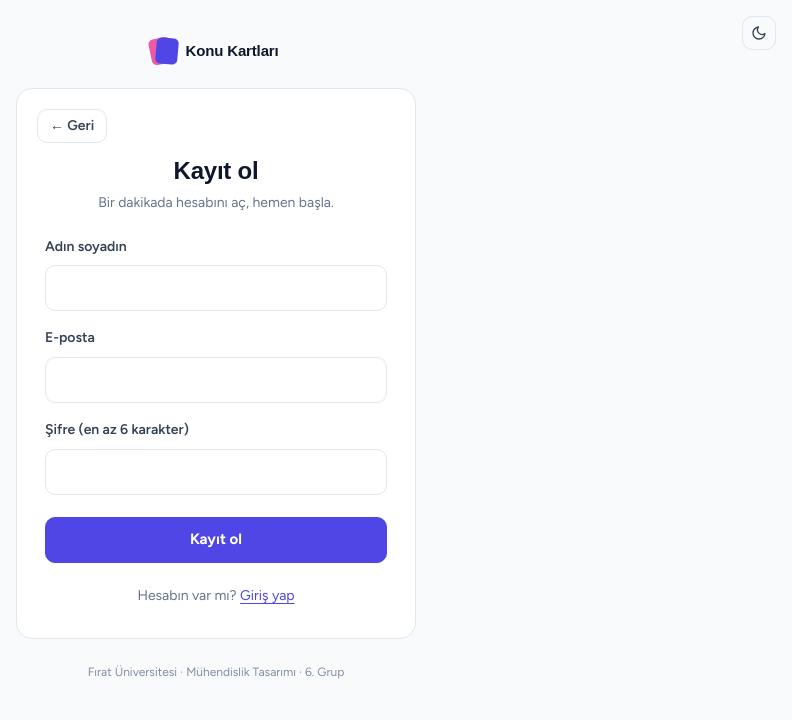
Test: Kayıt › kısa şifrede uyarır
Type "Ayşe Yılmaz" into the field labelled "Adın soyadın". click: (216, 288)
box: [45, 265, 387, 311]
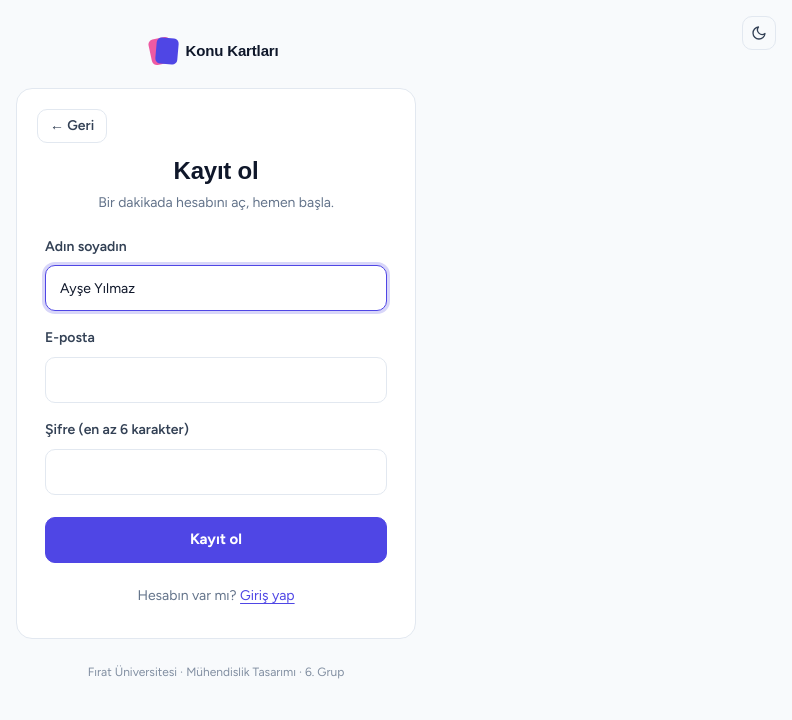
Type "ayse@ornek.com" into the field labelled "E-posta". click: (216, 380)
box: [45, 357, 387, 403]
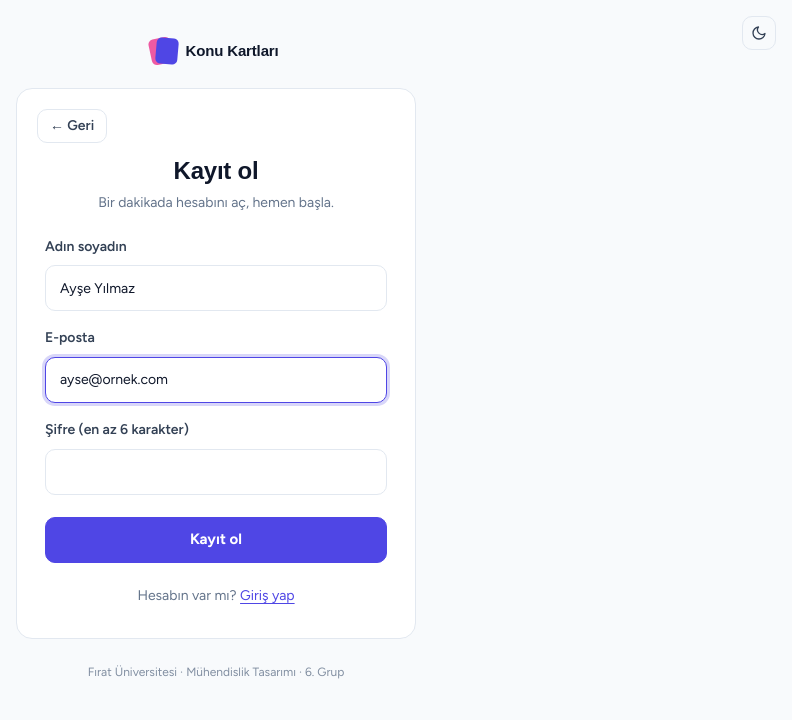
Type "123" into the password field labelled "Şifre (en az 6 karakter)". click: (216, 472)
box: [45, 449, 387, 495]
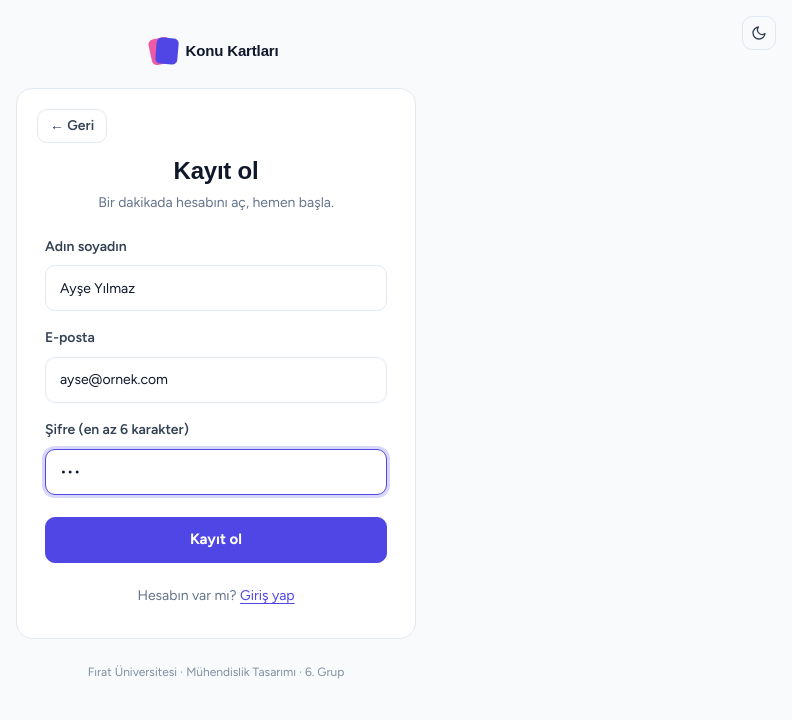
Click the button "Kayıt ol". click: (216, 540)
box: [45, 517, 387, 563]
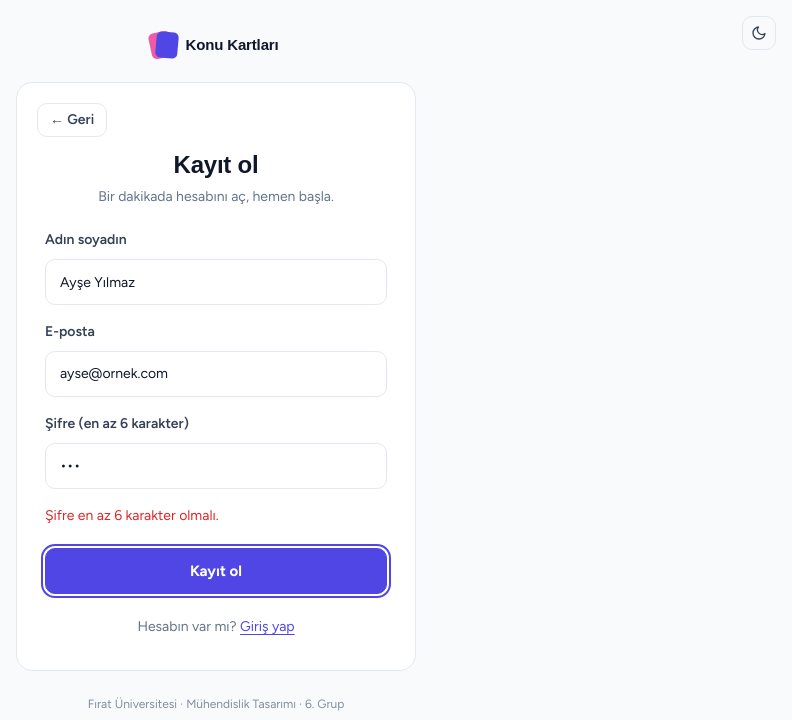
Now the message reads "Şifre en az 6 karakter olmalı.", box [45, 506, 219, 524]
